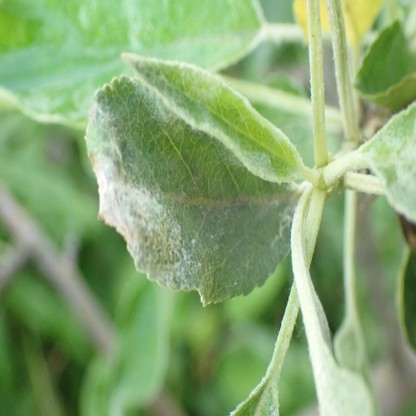powder: (88, 103, 212, 302), (123, 52, 222, 128), (361, 101, 416, 219), (133, 80, 176, 125), (270, 191, 302, 245), (239, 149, 269, 173), (270, 406, 278, 416)
